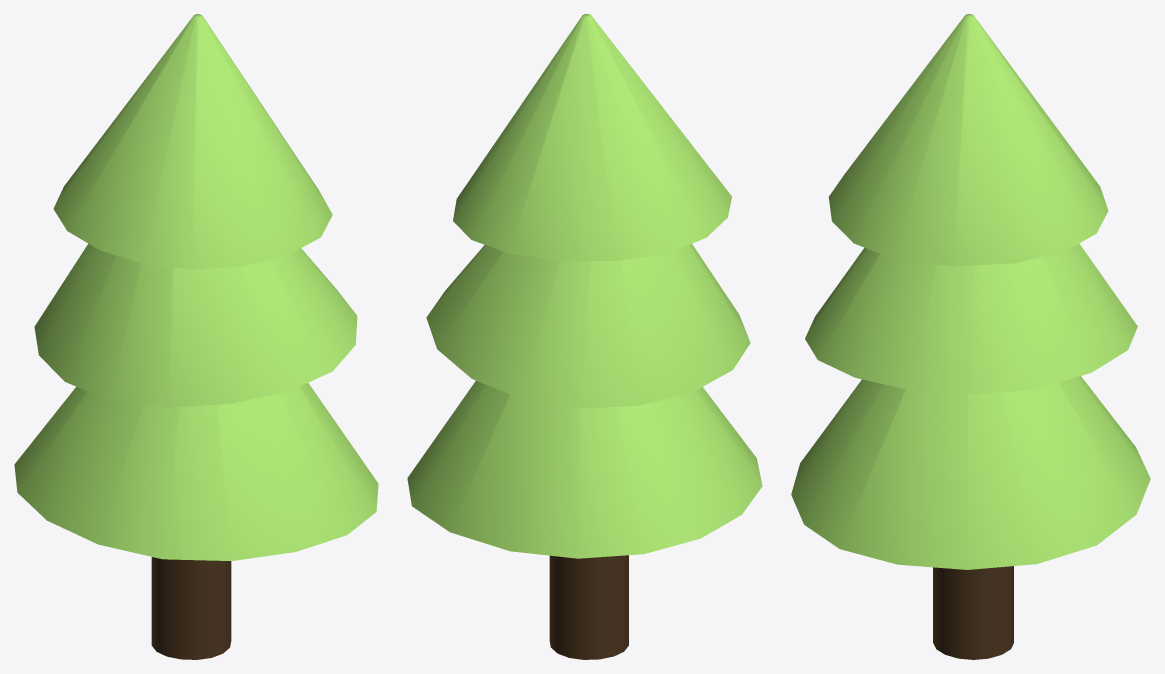
File: tree_01.fbx
3 views of the same model, side by side, from view 1: azimuth 30°, elevation 25°; view 2: azimuth 150°, elevation 25°; view 3: azimuth 270°, elevation 25° (orthographic).
Visible parts, largest first — view 1: tree1_GEO; view 2: tree1_GEO; view 3: tree1_GEO.
Boxes of the visible parts, x1,y1,x2,y2 form: tree1_GEO: (14, 14, 378, 659); tree1_GEO: (407, 14, 762, 659); tree1_GEO: (791, 14, 1150, 659).
Size of the model in its own units: 157 by 157 by 304.
1 material, 1 textured.
